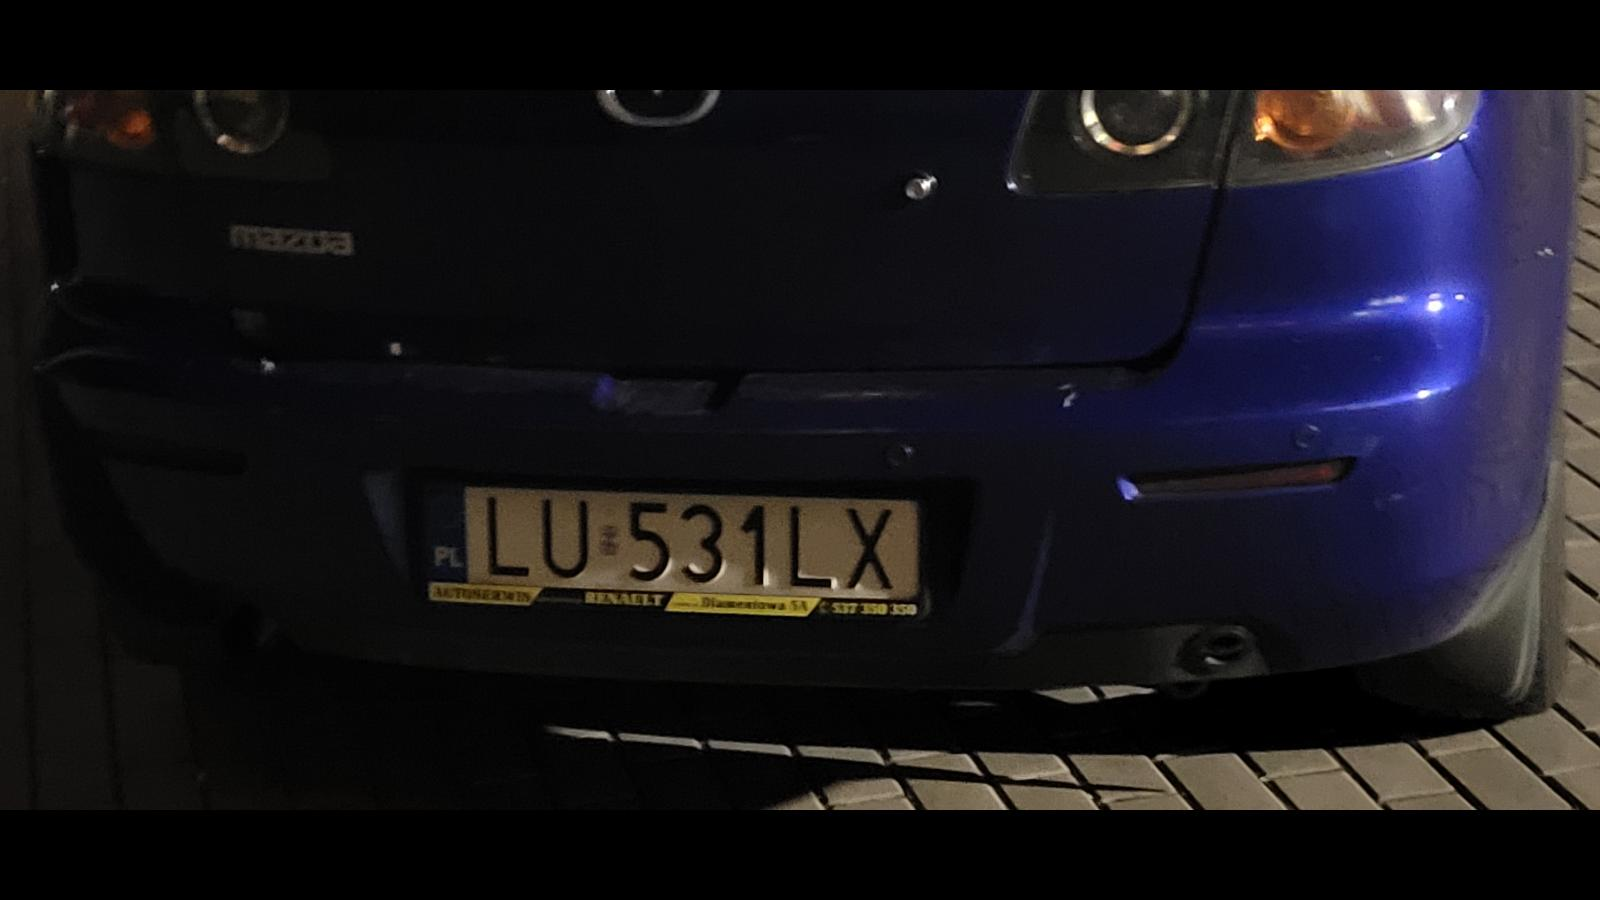plates: (417, 476, 929, 616)
